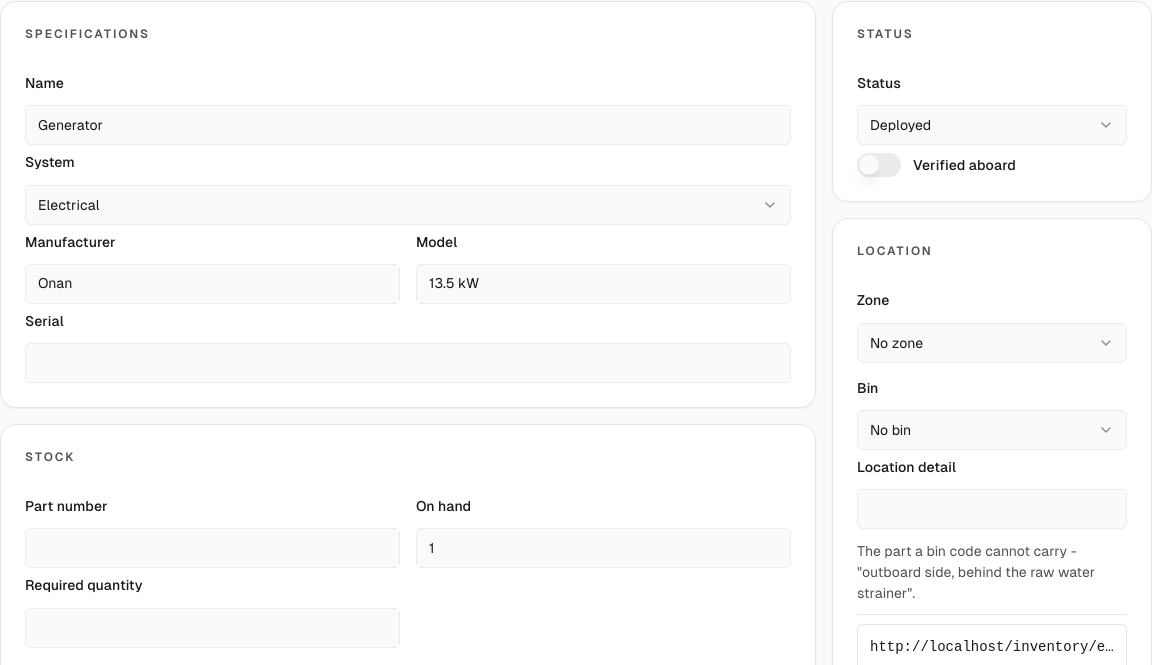
Scenario: EquipmentEditor › shows the save bar once a field is edited, and Discard restores the loaded value
Check: the field labelled "Name" holds "Generator", box [25,105,791,145]
Check: the button "Save" is not shown
Replace the text in the field labelled "Manufacturer" with "Kohler" at (212, 284), box [25,264,400,304]
(page scrolled)
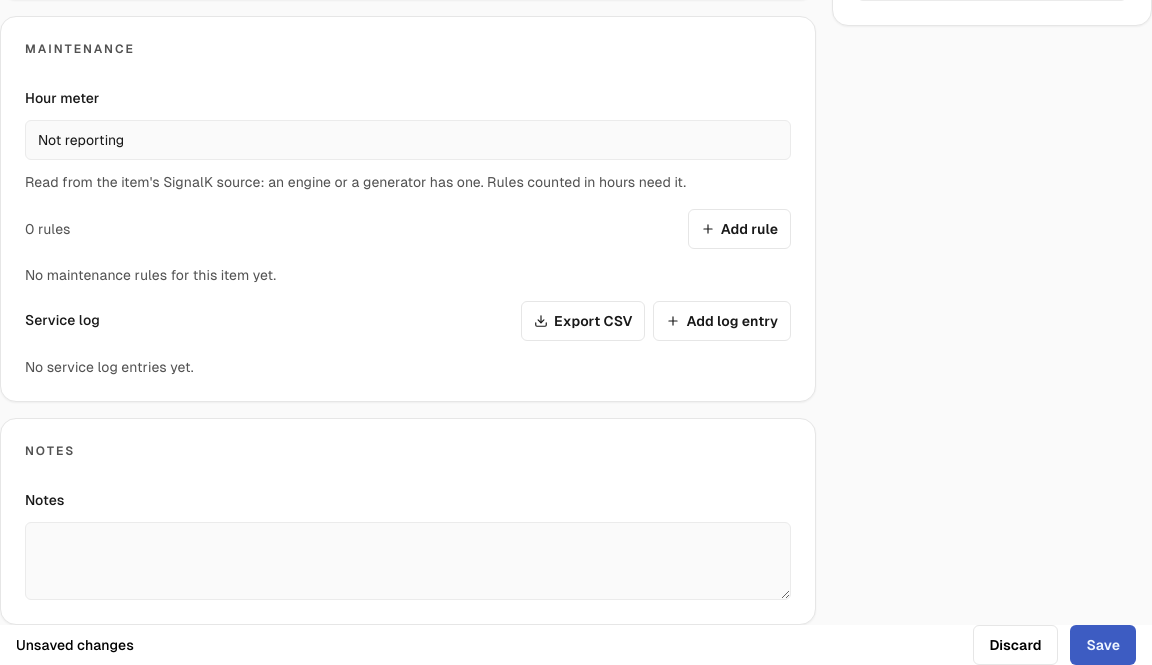
Check: the button "Save" is shown, box [1070,625,1136,664]
Check: the button "Discard" is shown
Click the button "Discard" at (1015, 645), box [972,625,1058,664]
(page scrolled)
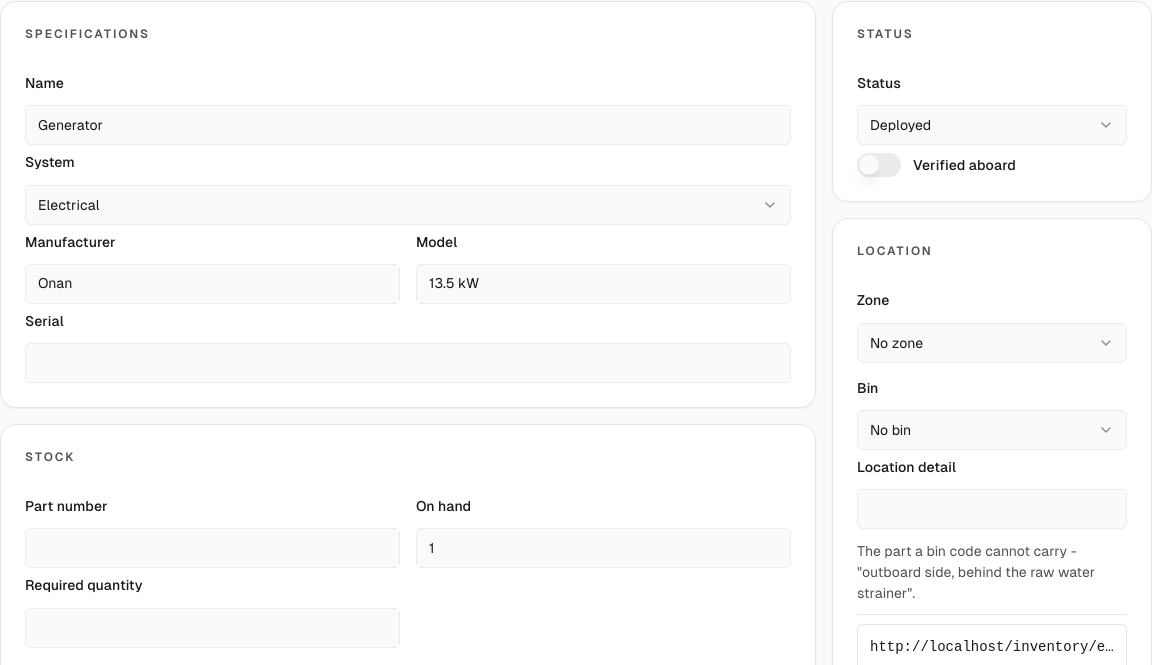
Check: the text "save" is gone
Check: the field labelled "Manufacturer" holds "Onan", box [25,264,400,304]
